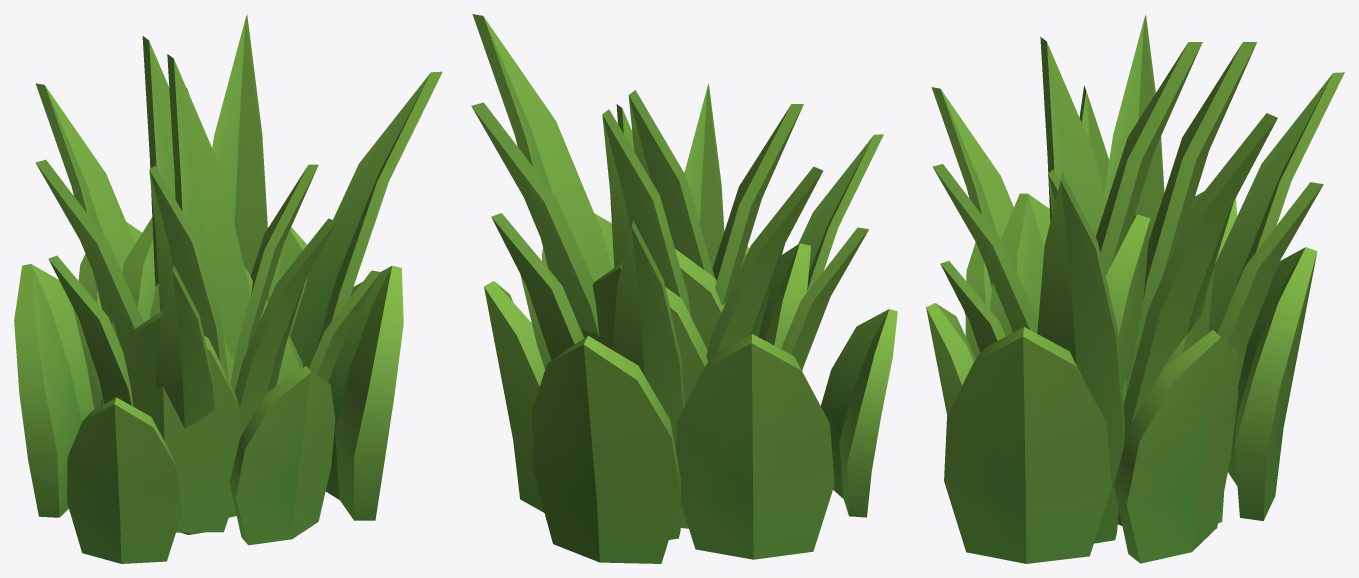
File: HeroGrass.glb
3 views of the same model, side by side, from view 1: azimuth 30°, elevation 25°; view 2: azimuth 150°, elevation 25°; view 3: azimuth 270°, elevation 25° (orthographic). The views are drawn at different scales.
Visible parts, largest first — view 1: Grass_1_C_Color1, Grass_2_C_Color1, Grass_2_A_Color1; view 2: Grass_1_C_Color1, Grass_2_C_Color1, Grass_2_A_Color1, Grass_1_A_Color1; view 3: Grass_1_C_Color1, Grass_2_C_Color1, Grass_2_A_Color1, Grass_1_A_Color1.
Boxes of the visible parts, box(x1,y1,x2,y2) form: Grass_1_C_Color1: box(14, 217, 403, 563); Grass_2_C_Color1: box(35, 14, 442, 534); Grass_2_A_Color1: box(167, 54, 249, 361); Grass_1_C_Color1: box(484, 213, 897, 563); Grass_2_C_Color1: box(471, 14, 883, 539); Grass_2_A_Color1: box(628, 90, 714, 277); Grass_1_A_Color1: box(675, 249, 725, 349); Grass_1_C_Color1: box(926, 191, 1317, 563); Grass_2_C_Color1: box(931, 14, 1344, 543); Grass_2_A_Color1: box(1095, 42, 1202, 275); Grass_1_A_Color1: box(1105, 214, 1150, 391).
Size of the model in its own units: 0.8965 by 0.9352 by 0.7674.
1 material, 1 textured.
